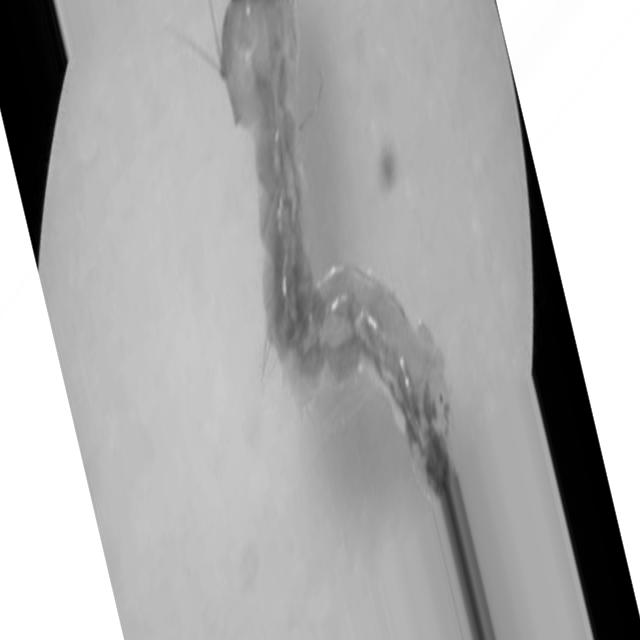larvas: (216, 0, 445, 492)
